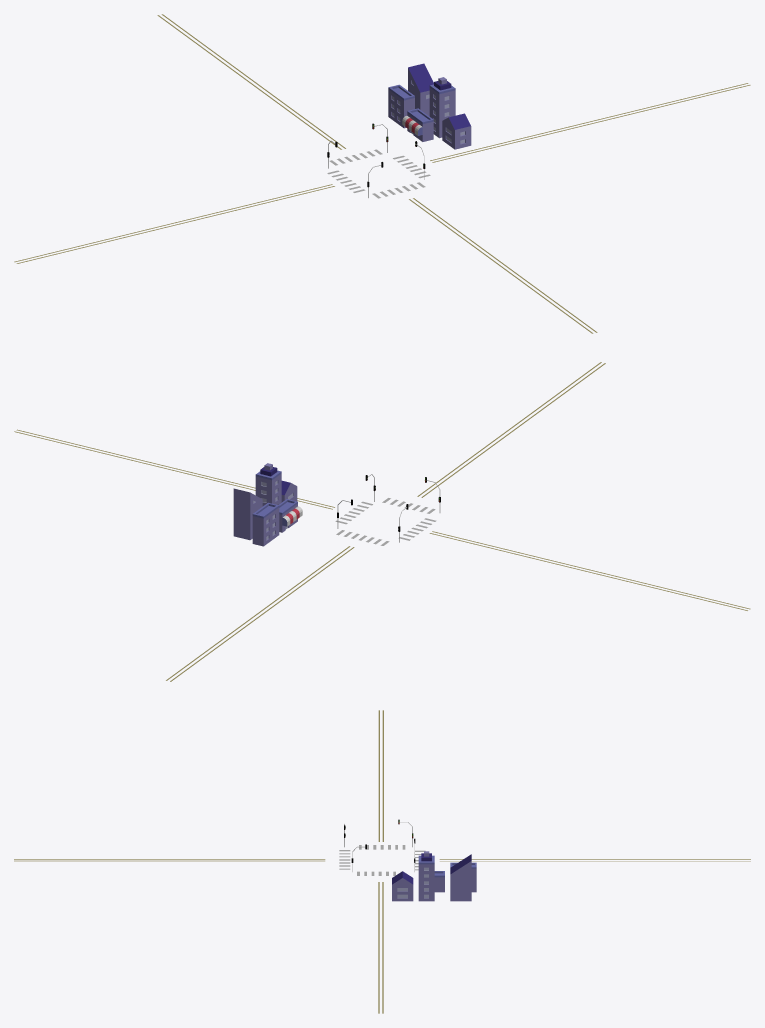
File: int-test-15.fbx
3 views of the same model, one above another, from view 1: azimuth 30°, elevation 25°; view 2: azimuth 150°, elevation 25°; view 3: azimuth 270°, elevation 25° (orthographic). The views are drawn at different scales.
Parts seen in each view (by area): view 1: Cube.003_Cube.004, Cube.002_Cube.003, STRET_LN.031, STRET_LN.015_STRET_LN.095, Cube.004_Cube.005, Cube.001, STRET_LN.016_STRET_LN.094, STRET_LN.012_STRET_LN.098, Cube.001_Cube.002; view 2: Cube.002_Cube.003, Cube.001, STRET_LN.031, STRET_LN.015_STRET_LN.095, Cube.003_Cube.004, STRET_LN.012_STRET_LN.098, STRET_LN.016_STRET_LN.094; view 3: STRET_LN.016_STRET_LN.094, Cube.002_Cube.003, Cube.003_Cube.004, Cube.004_Cube.005, STRET_LN.012_STRET_LN.098, STRET_LN.031, STRET_LN.015_STRET_LN.095.
Boxes of the visible parts, x1=… form: Cube.003_Cube.004: x1=429, y1=84, x2=455, y2=138; Cube.002_Cube.003: x1=408, y1=63, x2=433, y2=116; STRET_LN.031: x1=14, y1=184, x2=334, y2=263; STRET_LN.015_STRET_LN.095: x1=430, y1=83, x2=750, y2=162; Cube.004_Cube.005: x1=442, y1=113, x2=471, y2=149; Cube.001: x1=388, y1=84, x2=414, y2=128; STRET_LN.016_STRET_LN.094: x1=409, y1=198, x2=597, y2=333; STRET_LN.012_STRET_LN.098: x1=157, y1=14, x2=345, y2=149; Cube.001_Cube.002: x1=407, y1=108, x2=433, y2=141; Cube.002_Cube.003: x1=233, y1=488, x2=262, y2=540; Cube.001: x1=252, y1=502, x2=279, y2=546; STRET_LN.031: x1=429, y1=531, x2=750, y2=610; STRET_LN.015_STRET_LN.095: x1=14, y1=429, x2=334, y2=509; Cube.003_Cube.004: x1=255, y1=470, x2=281, y2=506; STRET_LN.012_STRET_LN.098: x1=166, y1=546, x2=354, y2=681; STRET_LN.016_STRET_LN.094: x1=417, y1=362, x2=605, y2=497; STRET_LN.016_STRET_LN.094: x1=14, y1=859, x2=325, y2=861; Cube.002_Cube.003: x1=450, y1=854, x2=471, y2=901; Cube.003_Cube.004: x1=418, y1=855, x2=434, y2=901; Cube.004_Cube.005: x1=392, y1=871, x2=413, y2=901; STRET_LN.012_STRET_LN.098: x1=439, y1=859, x2=750, y2=861; STRET_LN.031: x1=378, y1=710, x2=383, y2=841; STRET_LN.015_STRET_LN.095: x1=378, y1=882, x2=383, y2=1013.
Size of what is drawn, in the model's own units: 198 by 13.89 by 203.
